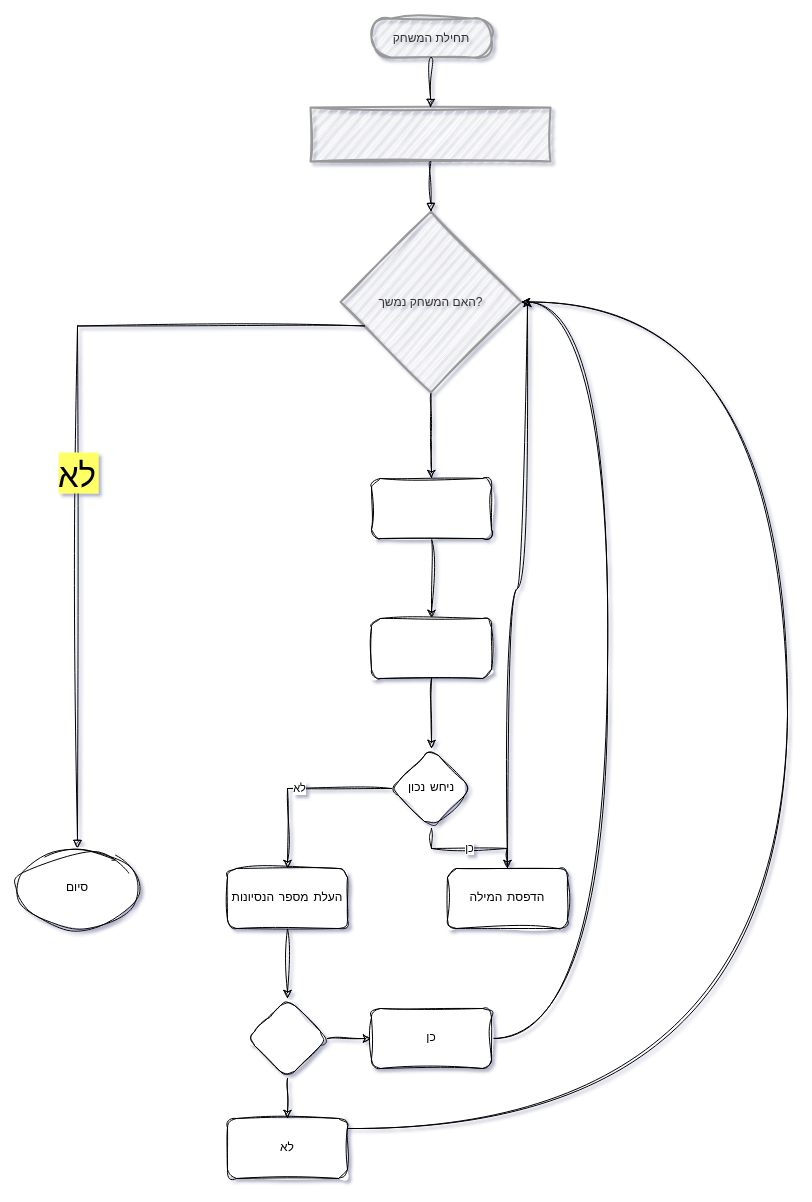
Image size: 812x1202. Some labels were removed from this diagram. The centre of each missing label's shape, as x and y in pixels:
בחירת מילה ואתחול משתנים: (x=430, y=134)
הדפסה: (x=431, y=508)
נגמרו הנסיונות: (x=287, y=1038)
קלט מהמשתמש: (x=431, y=648)
